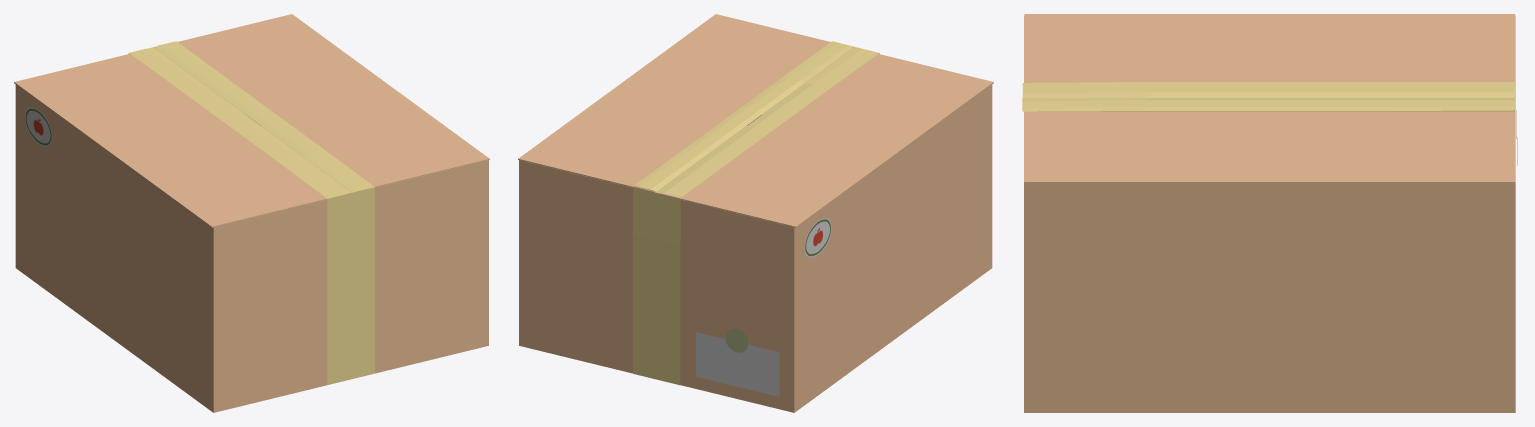
3 views of the same model, side by side, from view 1: azimuth 30°, elevation 25°; view 2: azimuth 150°, elevation 25°; view 3: azimuth 270°, elevation 25° (orthographic). The views are drawn at different scales.
Parts seen in each view (by area): view 1: Box_Body, Box_Flap_RL, Box_Flap_LL, Plane; view 2: Box_Body, Box_Flap_RL, Box_Flap_LL, Plane.001, Plane, Circle; view 3: Box_Body, Box_Flap_LL, Box_Flap_RL.
Boxes of the visible parts, x1,y1,x2,y2 form: Box_Body: (15,47,488,412); Box_Flap_RL: (14,47,351,227); Box_Flap_LL: (154,14,489,192); Plane: (25,107,51,146); Box_Body: (519,47,992,412); Box_Flap_RL: (657,47,993,227); Box_Flap_LL: (518,14,853,192); Plane.001: (696,332,779,396); Plane: (804,218,831,257); Circle: (725,328,748,352); Box_Body: (1024,16,1517,412); Box_Flap_LL: (1022,98,1515,183); Box_Flap_RL: (1022,14,1515,97).
Bounding box in the file's own units: 2.33 × 1.51 × 2.92.
5 materials, 2 textured.
